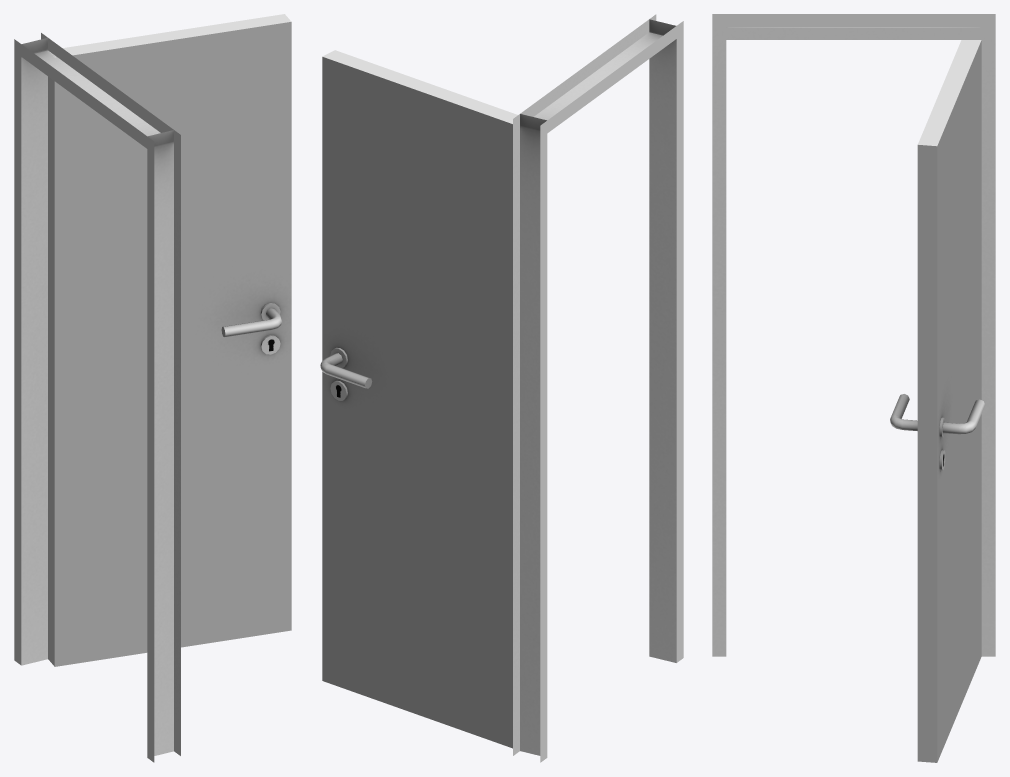
File: realPDDoor2.fbx
3 views of the same model, side by side, from view 1: azimuth 30°, elevation 25°; view 2: azimuth 150°, elevation 25°; view 3: azimuth 270°, elevation 25° (orthographic). The views are drawn at different scales.
Parts seen in each view (by area): view 1: pCube29; view 2: pCube29; view 3: pCube29.
Boxes of the visible parts, x1,y1,x2,y2 form: pCube29: (14,14,291,762); pCube29: (320,14,683,762); pCube29: (712,14,995,762).
Bounding box in the file's own units: 1.64 × 4.03 × 1.65.
Materials: 1 (1 with a texture image).
